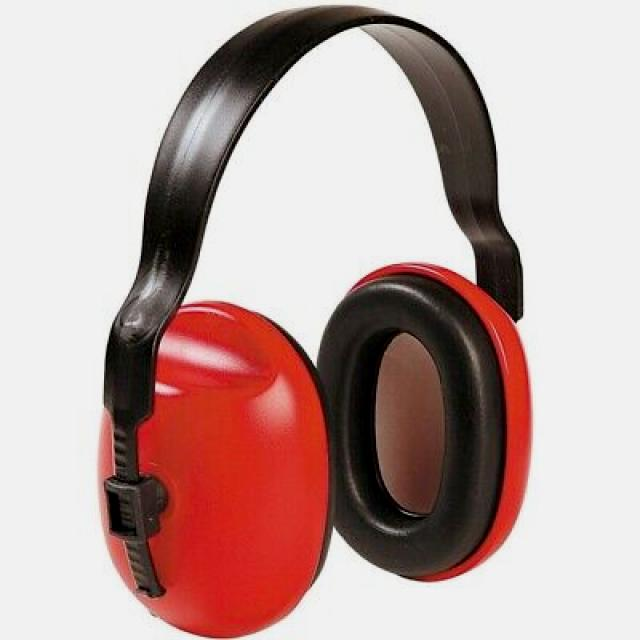Ear Muffs: (96, 1, 544, 638)
